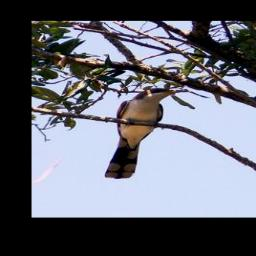Cuckoo: (101, 87, 188, 181)
